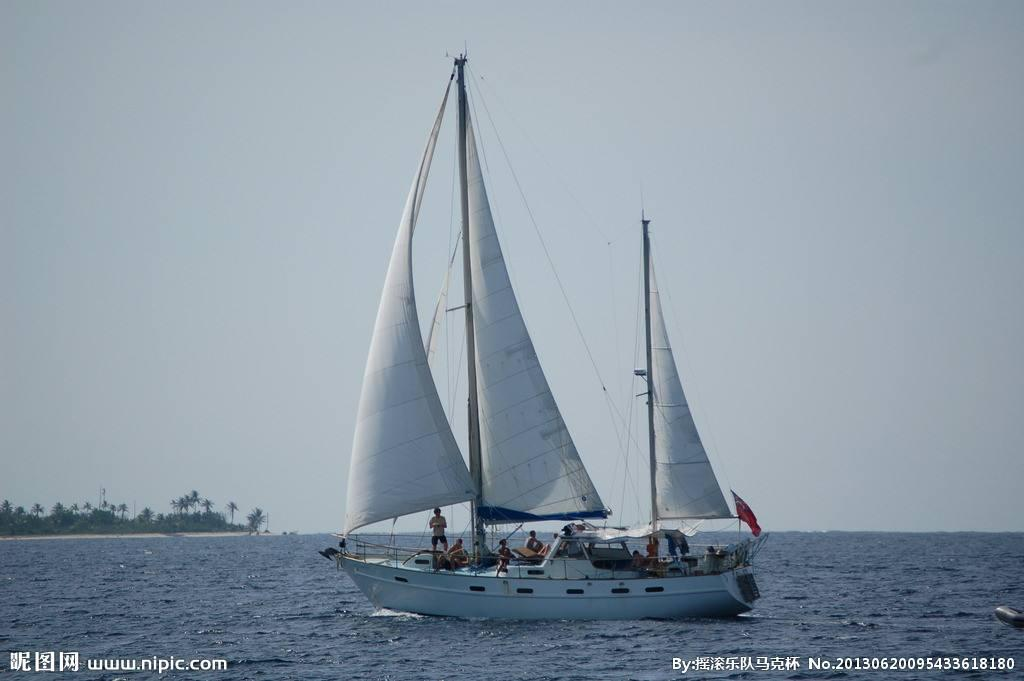fanchuan: (322, 38, 779, 622)
